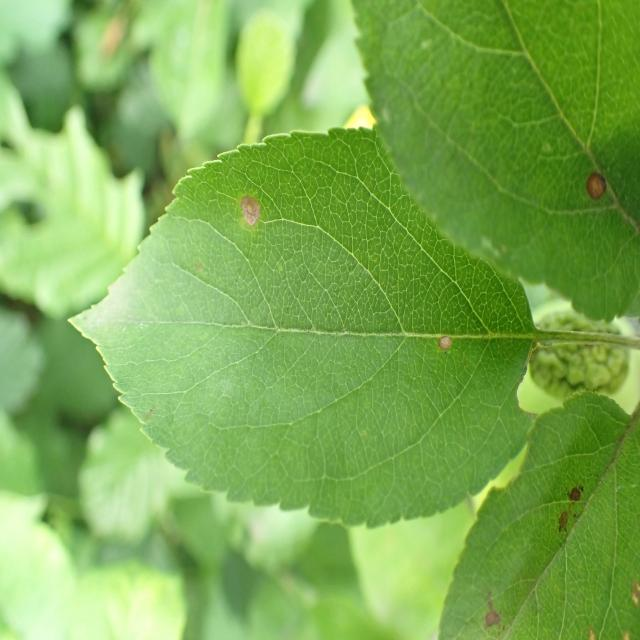Black Rot: (560, 108, 621, 231), (227, 180, 279, 251), (430, 319, 478, 381)
